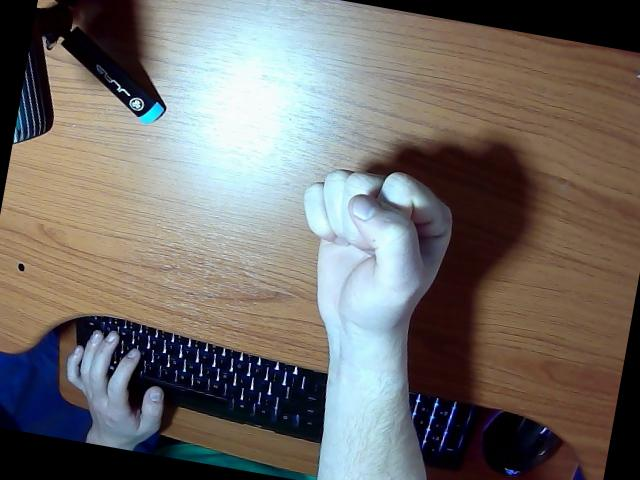rock: (304, 171, 452, 480), (304, 170, 451, 480)
